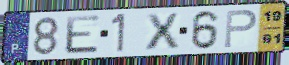1: (110, 13, 127, 55)
6: (189, 9, 221, 51)
8: (31, 15, 62, 57)
E: (64, 14, 102, 55)
P: (223, 9, 259, 50)
X: (145, 12, 182, 52)
